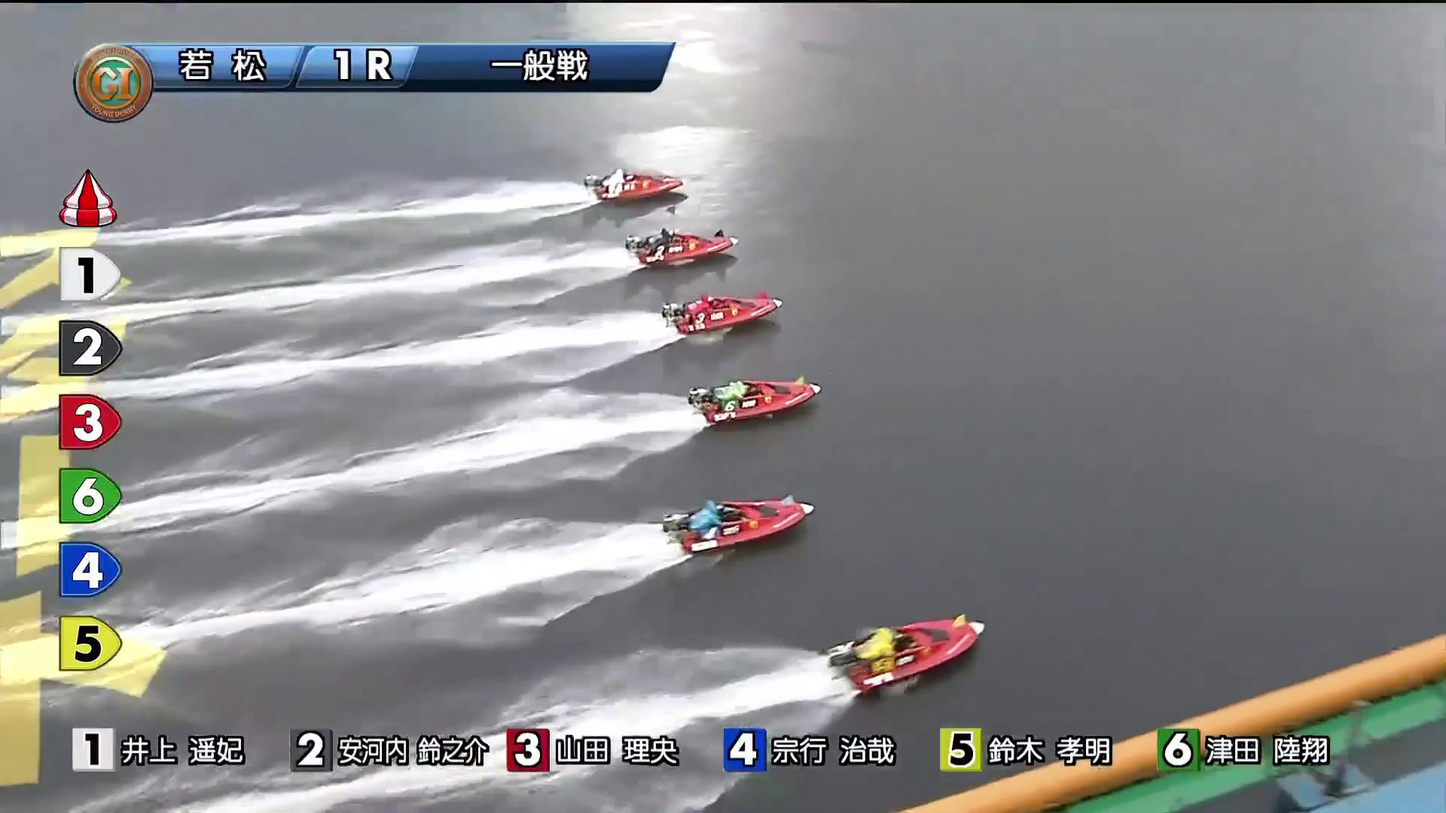１号艇: (602, 163, 678, 203)
２号艇: (631, 223, 734, 261)
３号艇: (667, 287, 792, 328)
４号艇: (699, 368, 804, 411)
５号艇: (666, 492, 787, 547)
６号艇: (803, 614, 960, 671)
